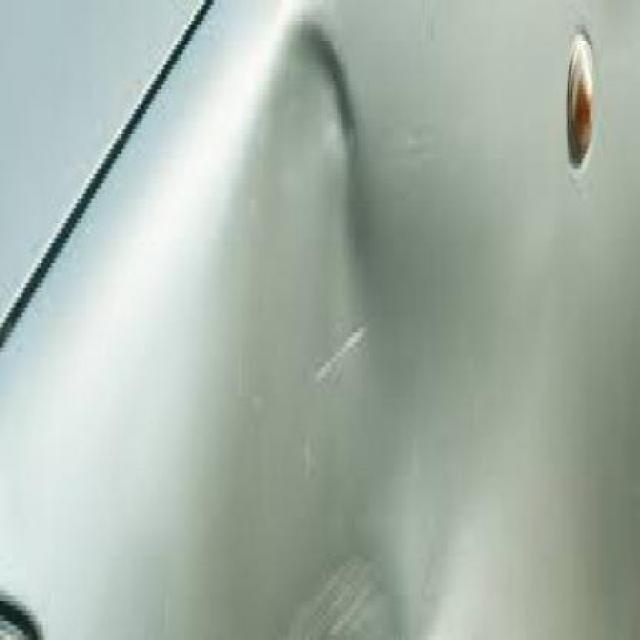dent: (260, 25, 462, 625)
